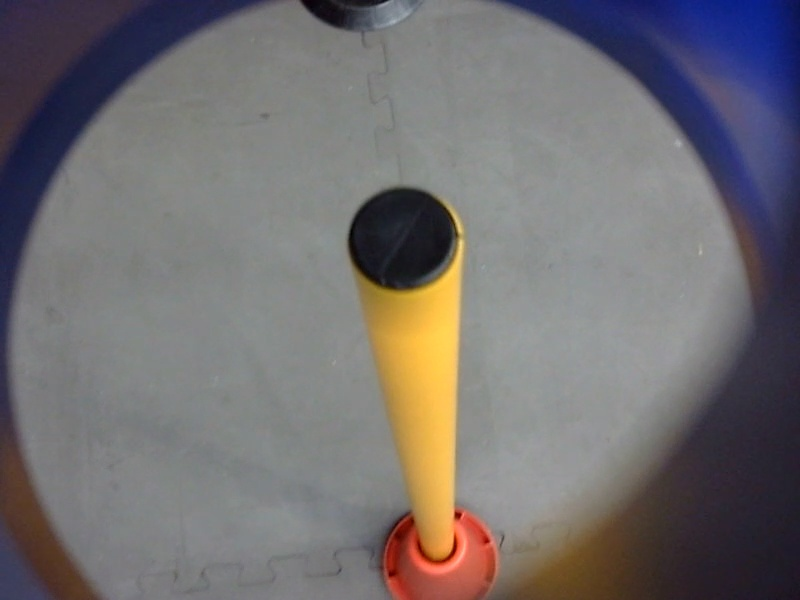tip: (335, 175, 472, 302)
